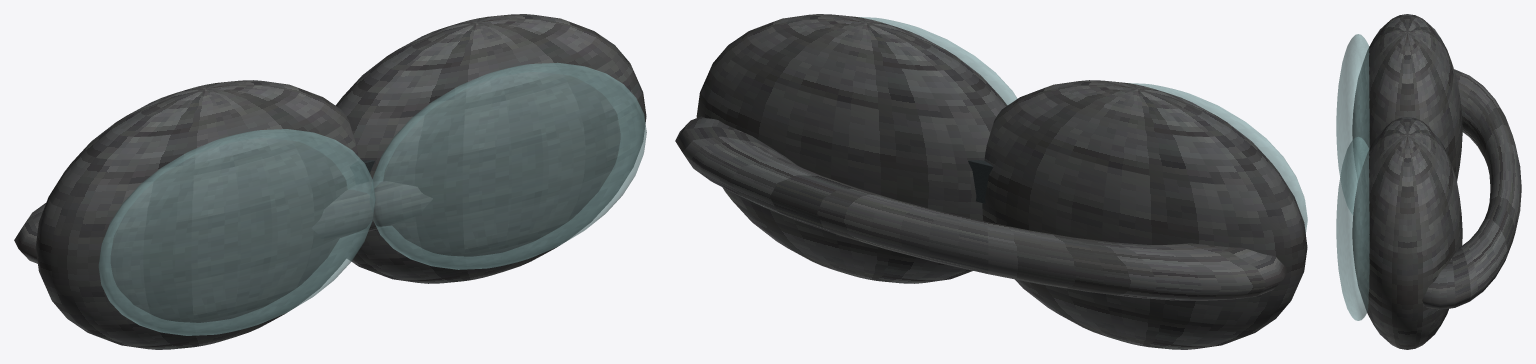
Rendered from goggles.glb.
The picture shows the model from 3 angles, left to right: view 1: azimuth 30°, elevation 25°; view 2: azimuth 150°, elevation 25°; view 3: azimuth 270°, elevation 25°; orthographic projection. The views are drawn at different scales.
Parts seen in each view (by area): view 1: rim (×2), lens (×2), strap; view 2: rim (×2), strap, lens (×2), bridge; view 3: rim (×2), strap, lens (×2).
Boxes of the visible parts, box(x1,y1,x2,y2) form: rim (×2): box(35, 14, 646, 349); lens (×2): box(98, 62, 646, 335); strap: box(14, 181, 432, 263); rim (×2): box(696, 14, 1307, 349); strap: box(675, 116, 1287, 300); lens (×2): box(858, 17, 1307, 233); bridge: box(968, 160, 993, 203); rim (×2): box(1352, 14, 1462, 349); strap: box(1358, 69, 1521, 309); lens (×2): box(1336, 34, 1369, 320).
Size of the model in its own units: 0.1764 by 0.0704 by 0.0604.
3 materials, 3 textured.
